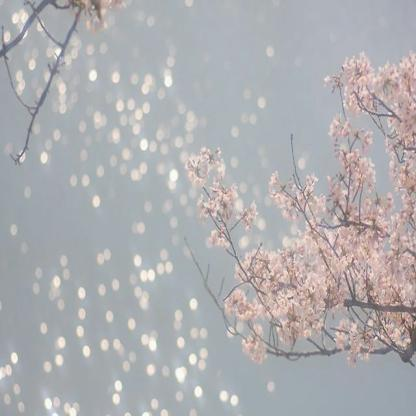Someiyoshino: (178, 39, 415, 383), (54, 2, 136, 41)
